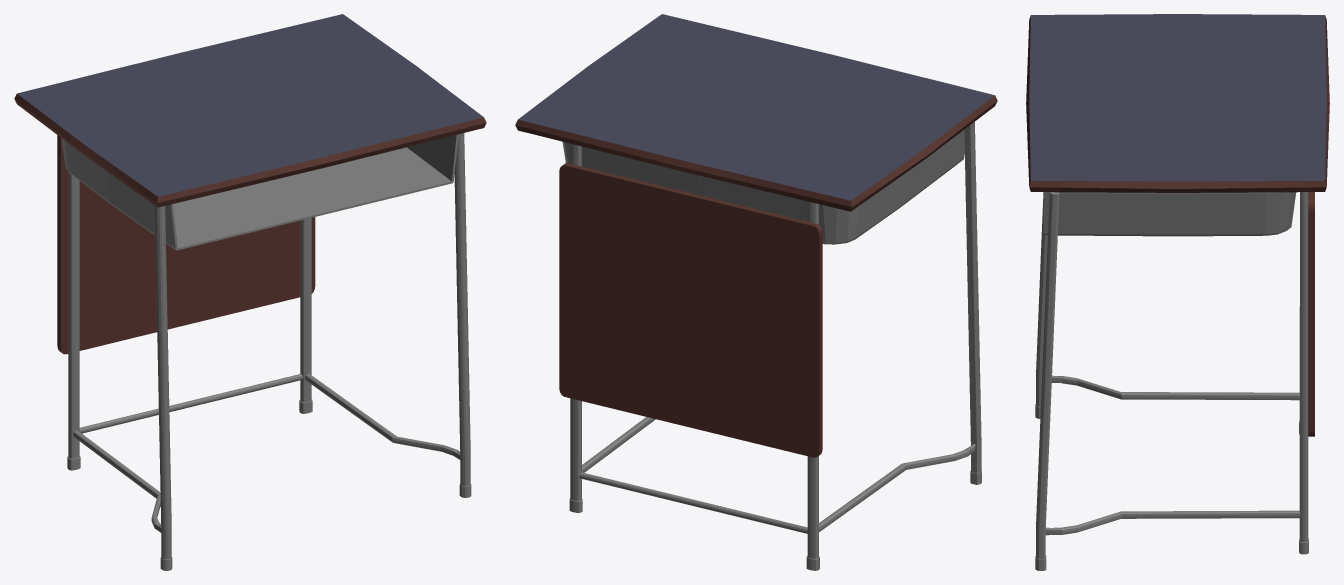
The model's file is Table.fbx.
3 renders of one model, left to right at view 1: azimuth 30°, elevation 25°; view 2: azimuth 150°, elevation 25°; view 3: azimuth 270°, elevation 25°, orthographic. The views are drawn at different scales.
Parts seen in each view (by area): view 1: Table01; view 2: Table01; view 3: Table01.
Part boxes in pixels (x1,y1,x2,y2): Table01: (14,14,486,570); Table01: (515,14,997,570); Table01: (1026,14,1329,570).
Bounding box in the file's own units: 80 × 86.04 × 60.
